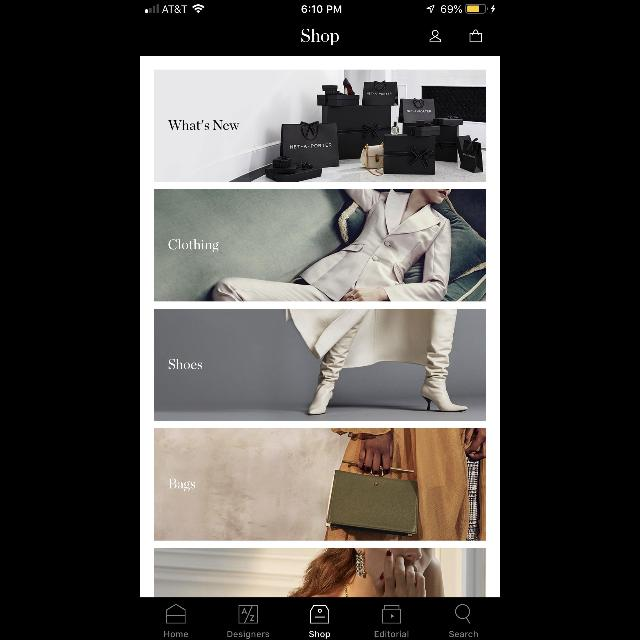icon: (167, 604, 186, 624), (382, 605, 402, 623), (454, 604, 472, 624), (470, 30, 482, 42), (430, 31, 440, 43)
image: (154, 70, 486, 182), (154, 189, 486, 301), (154, 309, 486, 421), (154, 428, 486, 540), (154, 548, 486, 598), (238, 605, 258, 623), (310, 605, 330, 623)
text: (168, 120, 240, 130), (301, 28, 339, 46), (169, 240, 219, 252), (168, 478, 196, 492), (169, 358, 203, 369), (228, 630, 270, 638), (374, 630, 408, 638), (449, 630, 478, 638), (310, 631, 330, 639), (165, 631, 189, 637)
uppertaskbar: (140, 0, 500, 14)
